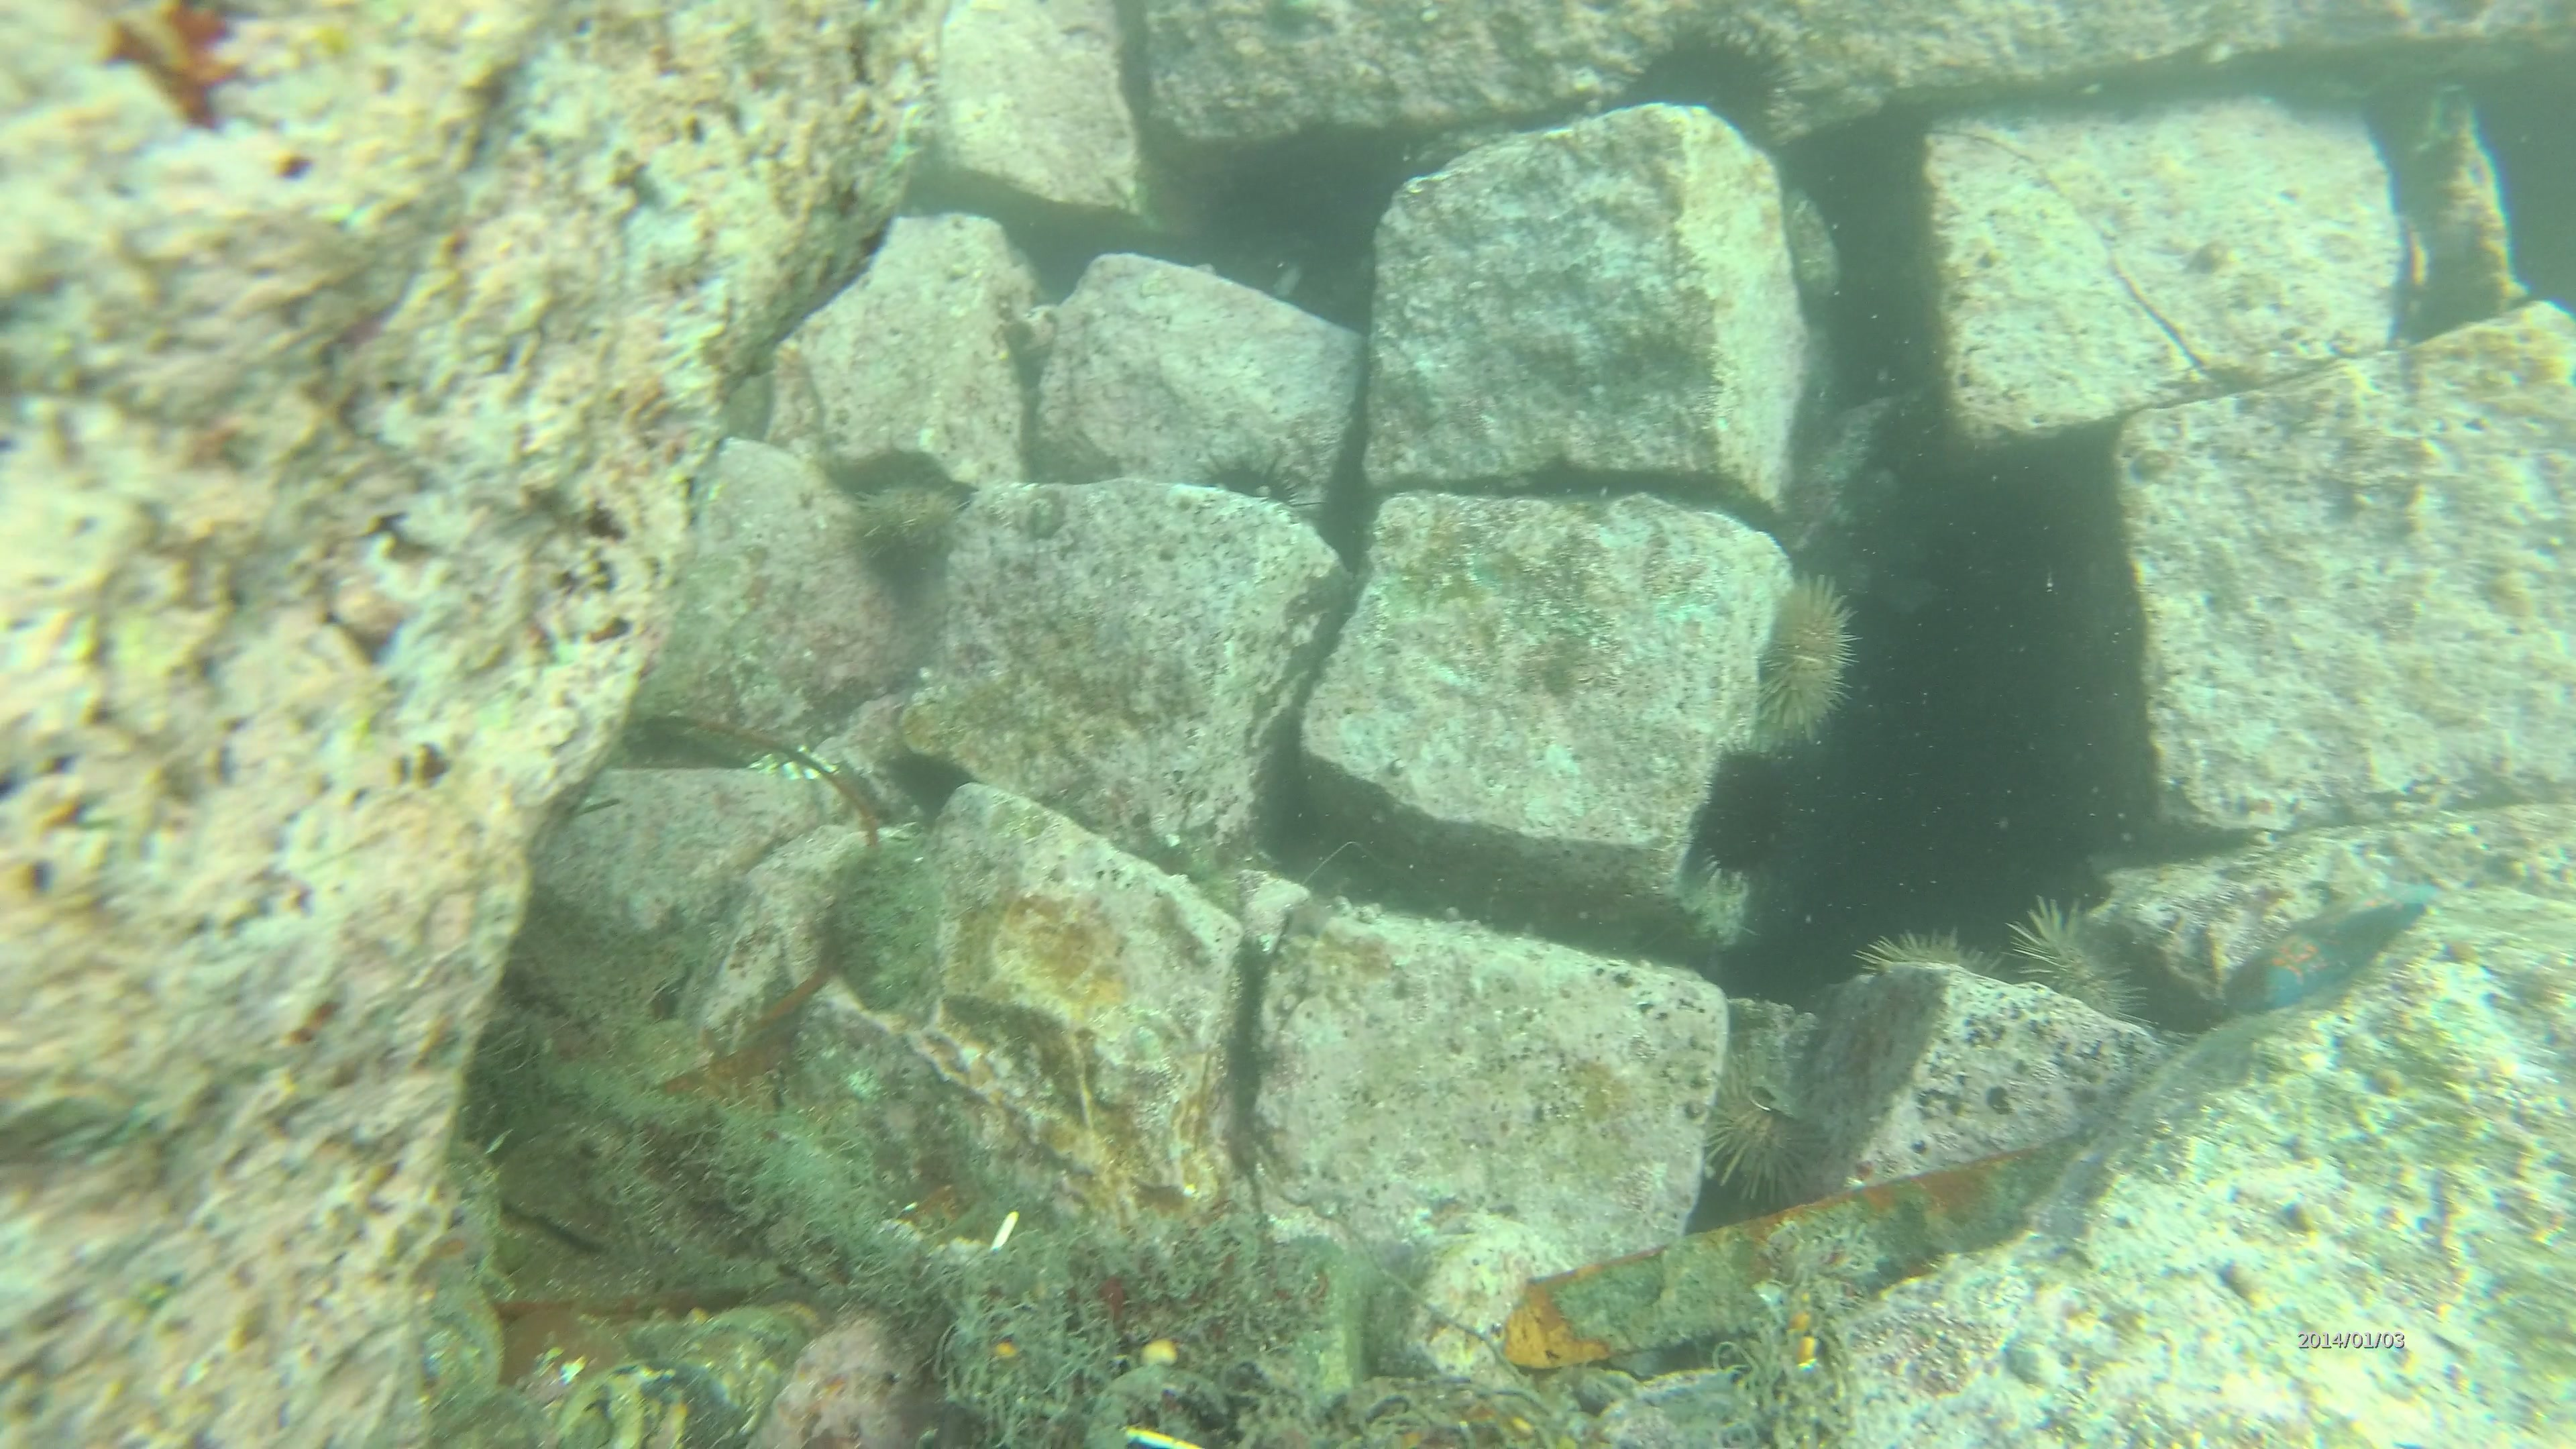echinus: (1619, 18, 1815, 170), (1702, 1035, 1845, 1203), (2008, 901, 2162, 1035), (1760, 566, 1867, 757), (1852, 922, 2008, 1010), (847, 471, 962, 586), (1185, 449, 1313, 531)
starfish: (2222, 878, 2443, 1017)
